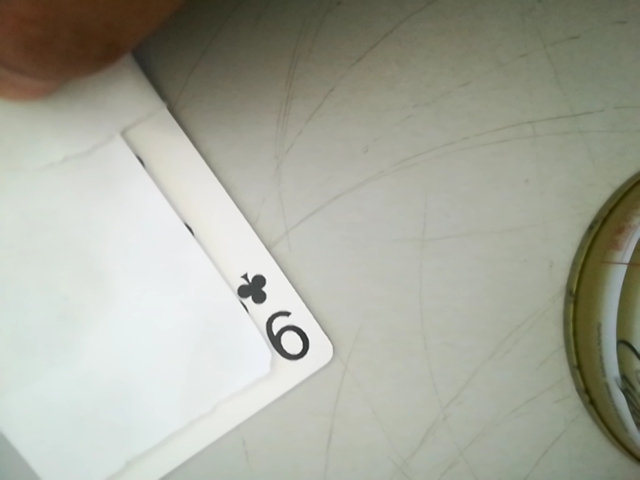mh 9: (234, 265, 315, 371)
